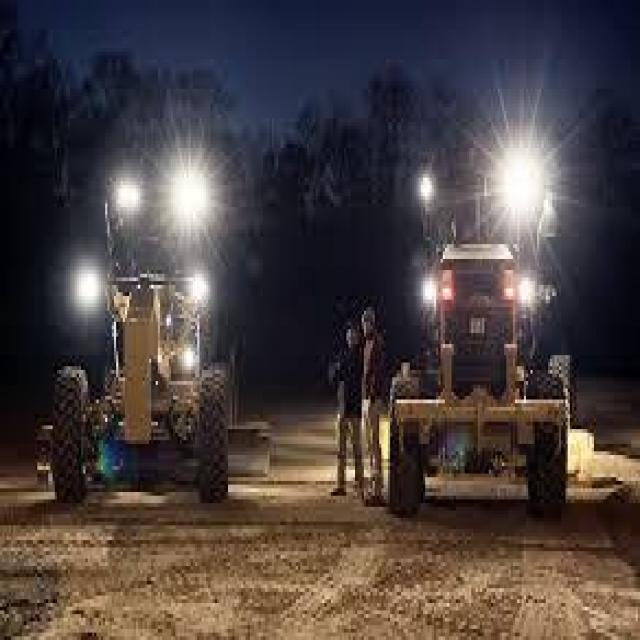Grader: (35, 148, 289, 544), (372, 108, 600, 536)
